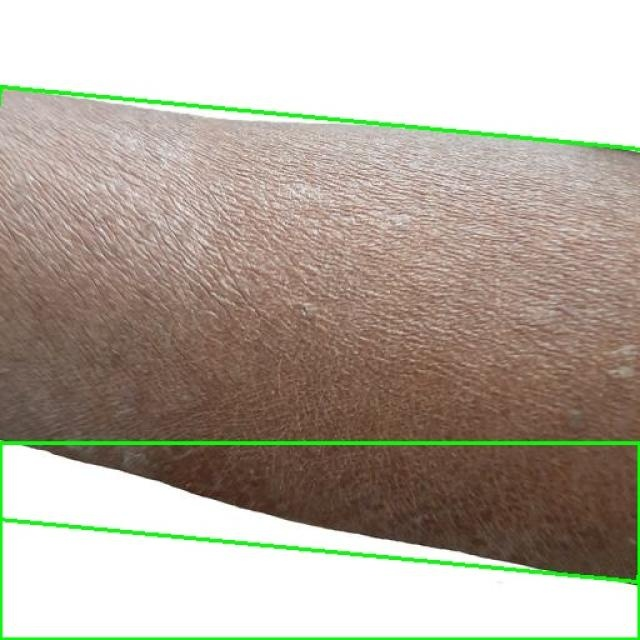Tinea Corporis: (0, 87, 640, 582), (0, 442, 639, 639)
